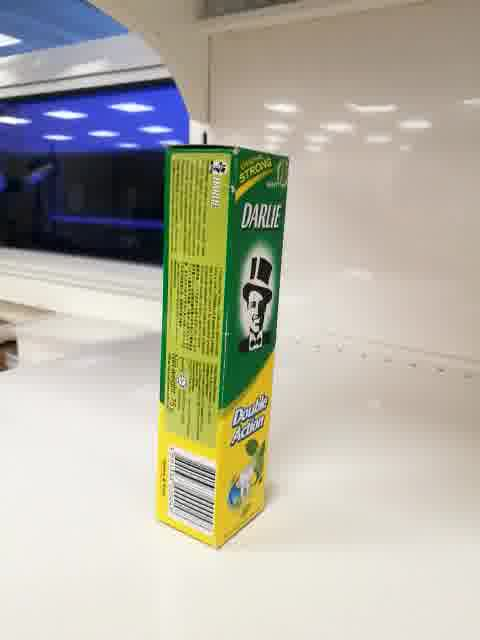toothpaste: (155, 143, 289, 551)
